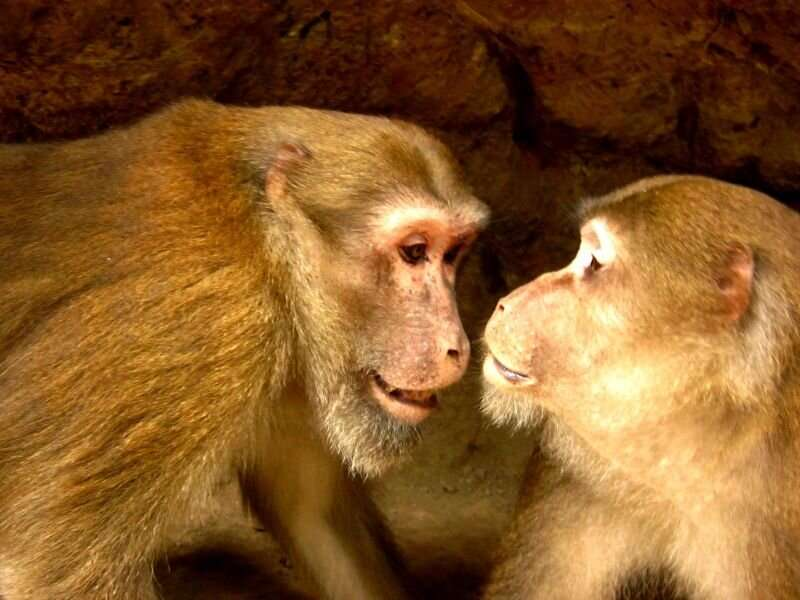monkey: (1, 69, 505, 600), (477, 157, 800, 600)
